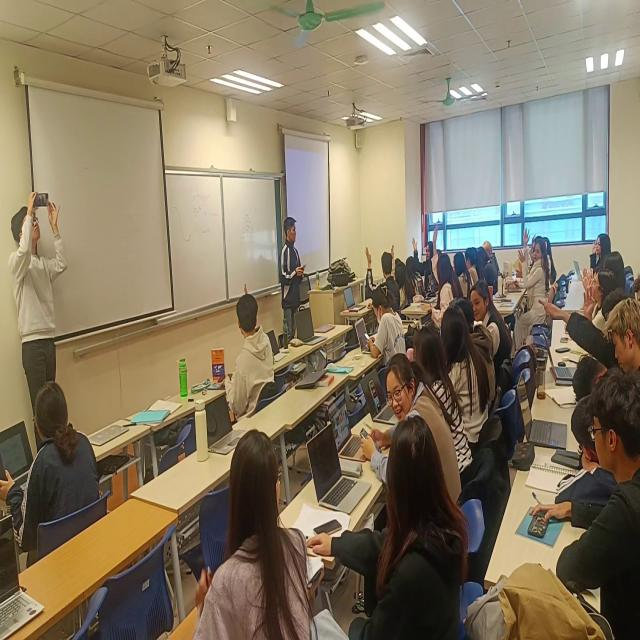raise_hand: (217, 270, 284, 440), (544, 287, 640, 389), (424, 221, 464, 331), (361, 244, 403, 326), (517, 237, 554, 327), (585, 286, 634, 348), (585, 247, 626, 296), (522, 225, 554, 285), (586, 269, 616, 318), (391, 244, 413, 309), (412, 233, 436, 291), (589, 231, 614, 278), (532, 234, 557, 280), (580, 264, 593, 292)
sleep: (550, 394, 640, 524), (571, 352, 613, 407)
stand: (8, 180, 71, 451), (277, 207, 310, 353)
using_computer: (1, 370, 113, 597)
using_phone: (525, 373, 640, 640), (364, 281, 411, 373)
